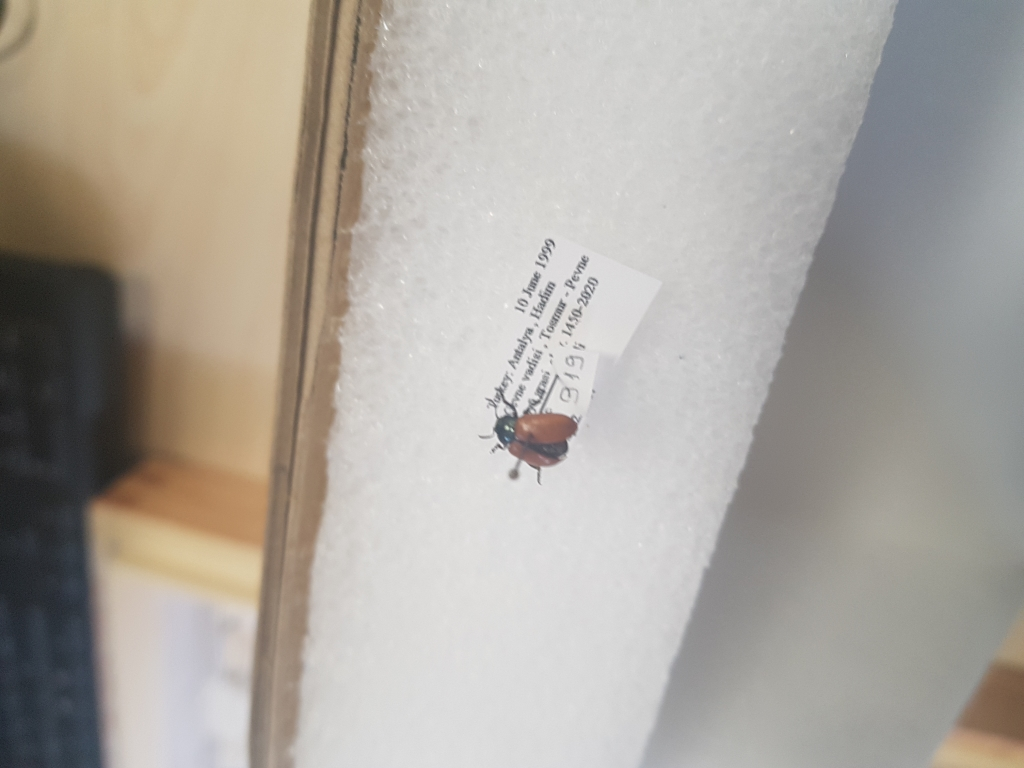Chrysomela_populi: (481, 386, 579, 474)
